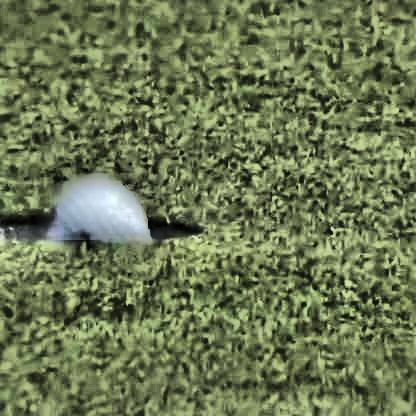golfball: (45, 190, 153, 260)
